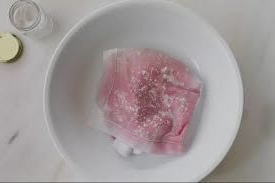wine: (99, 66, 197, 145)
